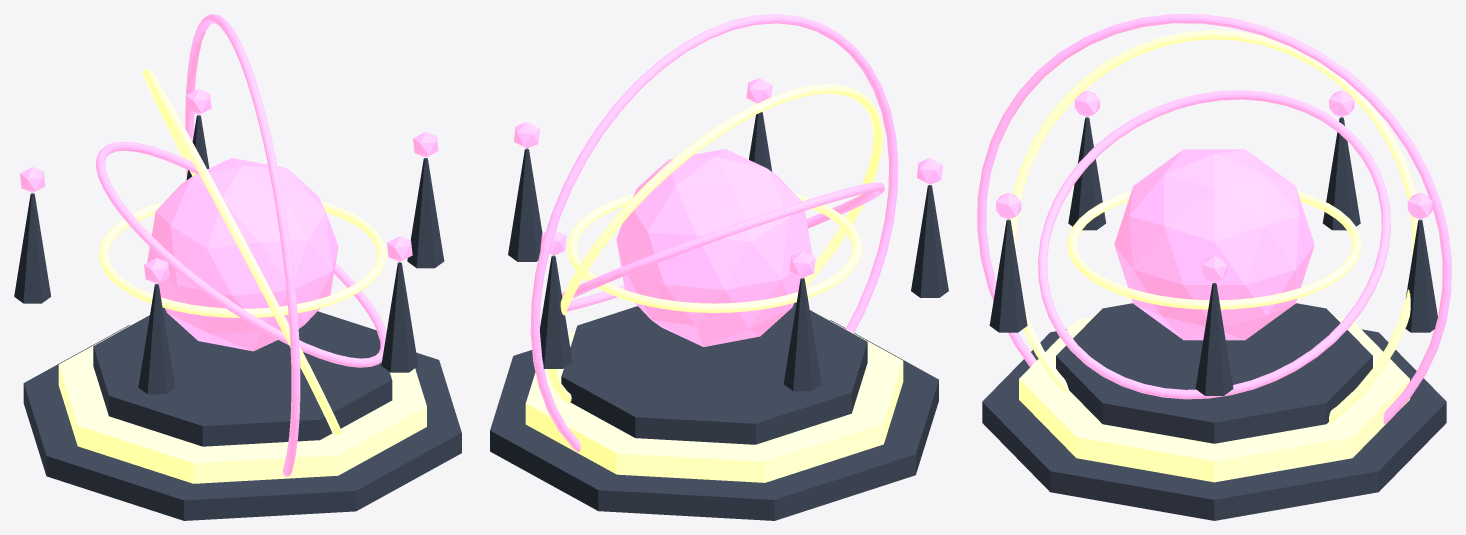
Rendered from gpu-blender-v37.glb.
3 renders of one model, left to right at view 1: azimuth 30°, elevation 25°; view 2: azimuth 150°, elevation 25°; view 3: azimuth 270°, elevation 25°, orthographic. The views are drawn at different scales.
Parts seen in each view (by area): view 1: Cylinder.002, SovereignCore_deepsearch-research-agent, Cylinder, Cylinder.001, Torus.003, Torus.001, Torus.002, Torus, Cone.003, Cone.004, Cone.002, Cone (+5 smaller); view 2: Cylinder.002, SovereignCore_deepsearch-research-agent, Cylinder, Cylinder.001, Torus.003, Torus.002, Torus, Torus.001, Cone.002, Cone.003, Cone, Cone.001 (+4 smaller); view 3: SovereignCore_deepsearch-research-agent, Cylinder.002, Cylinder, Cylinder.001, Torus.003, Torus.001, Torus.002, Torus, Cone.004, Cone, Cone.001, Cone.002 (+2 smaller).
Boxes of the visible parts, box(x1,y1,x2,y2) form: Cylinder.002: box(93, 307, 392, 446); SovereignCore_deepsearch-research-agent: box(147, 158, 338, 351); Cylinder: box(23, 325, 461, 520); Cylinder.001: box(58, 315, 426, 483); Torus.003: box(185, 14, 300, 476); Torus.001: box(96, 141, 386, 367); Torus.002: box(142, 68, 341, 435); Torus: box(99, 201, 386, 317); Cone.003: box(138, 284, 175, 394); Cone.004: box(381, 262, 418, 372); Cone.002: box(14, 193, 50, 303); Cone: box(407, 158, 444, 268); Cylinder.002: box(561, 302, 867, 444); SovereignCore_deepsearch-research-agent: box(616, 149, 812, 346); Cylinder: box(490, 320, 938, 520); Cylinder.001: box(525, 310, 903, 482); Torus.003: box(530, 14, 898, 452); Torus.002: box(547, 84, 882, 403); Torus: box(567, 193, 861, 312); Torus.001: box(561, 182, 884, 311); Cone.002: box(783, 278, 821, 391); Cone.003: box(911, 185, 948, 297); Cone: box(508, 148, 542, 261); Cone.001: box(540, 255, 572, 368); SovereignCore_deepsearch-research-agent: box(1114, 149, 1314, 340); Cylinder.002: box(1056, 303, 1372, 443); Cylinder: box(982, 329, 1446, 520); Cylinder.001: box(1019, 317, 1409, 482); Torus.003: box(977, 14, 1451, 424); Torus.001: box(1038, 90, 1390, 399); Torus.002: box(1008, 30, 1420, 422); Torus: box(1067, 191, 1361, 309); Cone.004: box(989, 219, 1027, 332); Cone: box(1195, 283, 1233, 395); Cone.001: box(1405, 219, 1437, 332); Cone.002: box(1322, 117, 1360, 230).
Bounding box in the file's own units: 4.41 × 4.7 × 4.49.
